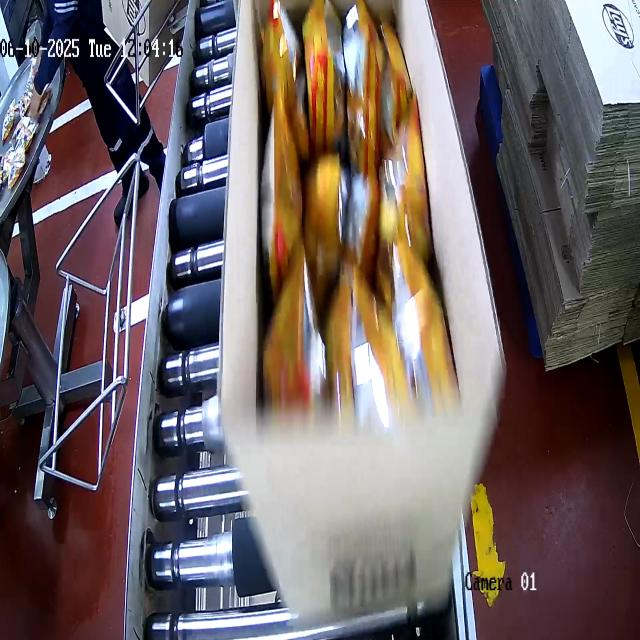FRENCH_CHEESE: (264, 9, 424, 403)
